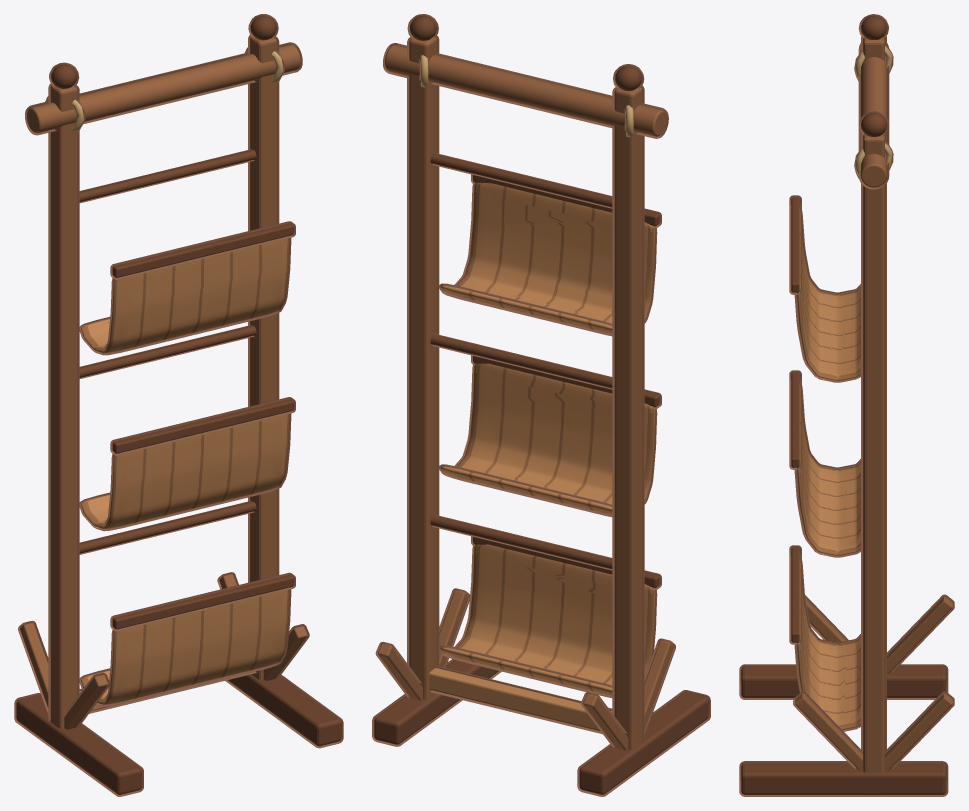
File: MC_5_StandRack.fbx
The picture shows the model from 3 angles, left to right: view 1: azimuth 30°, elevation 25°; view 2: azimuth 150°, elevation 25°; view 3: azimuth 270°, elevation 25°; orthographic projection. The views are drawn at different scales.
Visible parts, largest first — view 1: Rack_Post-1, Rack_Pocket3, Rack_Pocket2, Rack_Pocket1, Rack_Post1, Rack_TopBeam, Rack_Foot-1, Rack_Foot1, Rack_Pocket3_Trim, Rack_Pocket2_Trim, Rack_Pocket1_Trim, Rack_Dowel1 (+7 smaller); view 2: Rack_Post-1, Rack_Post1, Rack_Pocket3, Rack_Pocket2, Rack_Pocket1, Rack_TopBeam, Rack_Foot-1, Rack_Stretcher, Rack_Foot1, Rack_Dowel1, Rack_Dowel3, Rack_Dowel2 (+9 smaller); view 3: Rack_Post1, Rack_Foot1, Rack_Pocket2, Rack_Pocket3, Rack_Pocket1, Rack_Foot-1, Rack_TopBeam, Rack_Brace1-1, Rack_Brace11, Rack_Brace-11, Rack_Pocket1_Trim, Rack_Pocket2_Trim (+5 smaller).
Boxes of the visible parts, x1,y1,x2,y2 form: Rack_Post-1: [48, 83, 79, 728]; Rack_Pocket3: [79, 238, 291, 355]; Rack_Pocket2: [79, 413, 291, 531]; Rack_Pocket1: [79, 589, 291, 706]; Rack_Post1: [248, 35, 279, 679]; Rack_TopBeam: [25, 42, 302, 135]; Rack_Foot-1: [14, 693, 143, 796]; Rack_Foot1: [225, 674, 343, 748]; Rack_Pocket3_Trim: [110, 221, 295, 279]; Rack_Pocket2_Trim: [110, 397, 295, 455]; Rack_Pocket1_Trim: [110, 572, 295, 631]; Rack_Dowel1: [79, 500, 256, 554]; Rack_Post-1: [612, 85, 644, 749]; Rack_Post1: [407, 35, 439, 699]; Rack_Pocket3: [438, 182, 657, 336]; Rack_Pocket2: [438, 363, 657, 517]; Rack_Pocket1: [438, 544, 657, 697]; Rack_TopBeam: [383, 43, 668, 138]; Rack_Foot-1: [577, 690, 710, 796]; Rack_Stretcher: [429, 666, 612, 734]; Rack_Foot1: [372, 659, 501, 746]; Rack_Dowel1: [430, 514, 614, 570]; Rack_Dowel3: [430, 153, 614, 208]; Rack_Dowel2: [430, 334, 614, 389]; Rack_Post1: [861, 133, 886, 795]; Rack_Foot1: [739, 761, 948, 796]; Rack_Pocket2: [794, 380, 860, 557]; Rack_Pocket3: [794, 205, 860, 382]; Rack_Pocket1: [794, 555, 860, 731]; Rack_Foot-1: [739, 664, 948, 699]; Rack_TopBeam: [858, 43, 889, 189]; Rack_Brace1-1: [793, 691, 862, 770]; Rack_Brace11: [885, 691, 954, 770]; Rack_Brace-11: [887, 594, 954, 673]; Rack_Pocket1_Trim: [789, 545, 801, 644]; Rack_Pocket2_Trim: [789, 370, 801, 469].
Bounding box in the file's own units: 0.5068 × 1.24 × 0.3574.
